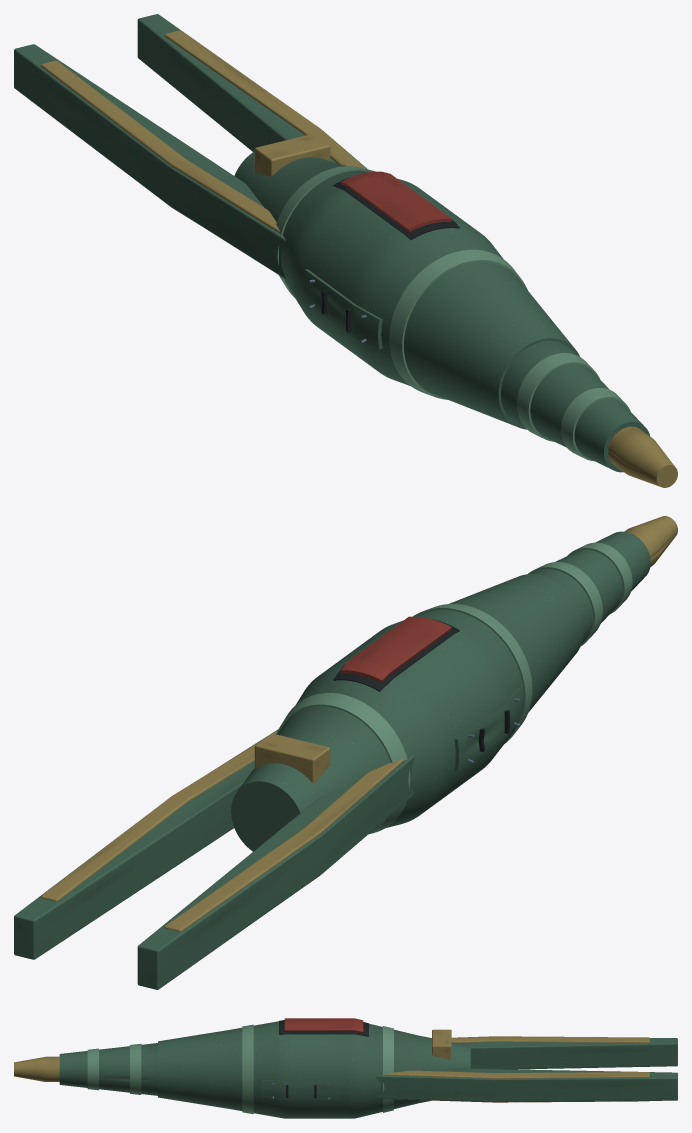
The picture shows the model from 3 angles, top to bottom: view 1: azimuth 30°, elevation 25°; view 2: azimuth 150°, elevation 25°; view 3: azimuth 270°, elevation 25°; orthographic projection. The views are drawn at different scales.
Parts seen in each view (by area): view 1: Rigellian Temporal Stasis green core, Rigellian Temporal Stasis rear prong 0, Rigellian Temporal Stasis forward neck, Rigellian Temporal Stasis rear prong 1, Rigellian Temporal Stasis gold rail 0, Rigellian Temporal Stasis pale band 2, Rigellian Temporal Stasis gold rail 1, Rigellian Temporal Stasis red centre insert, Rigellian Temporal Stasis gold forward fitting, Rigellian Temporal Stasis service cover 1, Rigellian Temporal Stasis gold fork base, Rigellian Temporal Stasis pale band 1 (+3 smaller); view 2: Rigellian Temporal Stasis green core, Rigellian Temporal Stasis rear prong 0, Rigellian Temporal Stasis rear prong 1, Rigellian Temporal Stasis forward neck, Rigellian Temporal Stasis gold rail 0, Rigellian Temporal Stasis gold rail 1, Rigellian Temporal Stasis red centre insert, Rigellian Temporal Stasis pale band 3, Rigellian Temporal Stasis gold fork base, Rigellian Temporal Stasis service cover 1, Rigellian Temporal Stasis pale band 2, Rigellian Temporal Stasis gold forward fitting (+3 smaller); view 3: Rigellian Temporal Stasis green core, Rigellian Temporal Stasis rear prong 1, Rigellian Temporal Stasis rear prong 0, Rigellian Temporal Stasis forward neck, Rigellian Temporal Stasis gold rail 1, Rigellian Temporal Stasis service cover 0, Rigellian Temporal Stasis gold rail 0, Rigellian Temporal Stasis red centre insert, Rigellian Temporal Stasis pale band 2, Rigellian Temporal Stasis gold forward fitting, Rigellian Temporal Stasis pale band 3, Rigellian Temporal Stasis pale band 1 (+3 smaller).
Boxes of the visible parts, x1,y1,x2,y2 form: Rigellian Temporal Stasis green core: [234, 151, 579, 429]; Rigellian Temporal Stasis rear prong 0: [14, 44, 285, 279]; Rigellian Temporal Stasis forward neck: [501, 341, 649, 472]; Rigellian Temporal Stasis rear prong 1: [137, 14, 367, 169]; Rigellian Temporal Stasis gold rail 0: [40, 60, 279, 232]; Rigellian Temporal Stasis pale band 2: [389, 249, 527, 399]; Rigellian Temporal Stasis gold rail 1: [164, 30, 365, 168]; Rigellian Temporal Stasis red centre insert: [340, 171, 451, 231]; Rigellian Temporal Stasis gold forward fitting: [608, 426, 677, 487]; Rigellian Temporal Stasis service cover 1: [303, 269, 382, 349]; Rigellian Temporal Stasis gold fork base: [254, 133, 330, 176]; Rigellian Temporal Stasis pale band 1: [517, 353, 599, 441]; Rigellian Temporal Stasis green core: [231, 574, 583, 851]; Rigellian Temporal Stasis rear prong 0: [137, 755, 414, 989]; Rigellian Temporal Stasis rear prong 1: [14, 729, 278, 959]; Rigellian Temporal Stasis forward neck: [530, 531, 650, 643]; Rigellian Temporal Stasis gold rail 0: [164, 759, 403, 931]; Rigellian Temporal Stasis gold rail 1: [40, 730, 277, 901]; Rigellian Temporal Stasis red centre insert: [340, 616, 451, 683]; Rigellian Temporal Stasis pale band 3: [276, 693, 410, 834]; Rigellian Temporal Stasis gold fork base: [254, 733, 330, 783]; Rigellian Temporal Stasis service cover 1: [454, 688, 522, 771]; Rigellian Temporal Stasis pale band 2: [413, 604, 532, 743]; Rigellian Temporal Stasis gold forward fitting: [624, 516, 677, 566]; Rigellian Temporal Stasis green core: [158, 1021, 470, 1118]; Rigellian Temporal Stasis rear prong 1: [375, 1068, 677, 1101]; Rigellian Temporal Stasis rear prong 0: [458, 1038, 677, 1069]; Rigellian Temporal Stasis forward neck: [59, 1043, 157, 1095]; Rigellian Temporal Stasis gold rail 1: [385, 1070, 649, 1102]; Rigellian Temporal Stasis service cover 0: [262, 1080, 340, 1099]; Rigellian Temporal Stasis gold rail 0: [451, 1036, 649, 1042]; Rigellian Temporal Stasis red centre insert: [284, 1018, 363, 1033]; Rigellian Temporal Stasis pale band 2: [242, 1024, 253, 1114]; Rigellian Temporal Stasis gold forward fitting: [14, 1056, 59, 1081]; Rigellian Temporal Stasis pale band 3: [383, 1026, 393, 1112]; Rigellian Temporal Stasis pale band 1: [130, 1043, 141, 1094].
Bounding box in the file's own units: 0.3862 × 0.359 × 2.36.
Materials: 6 (3 with a texture image).
